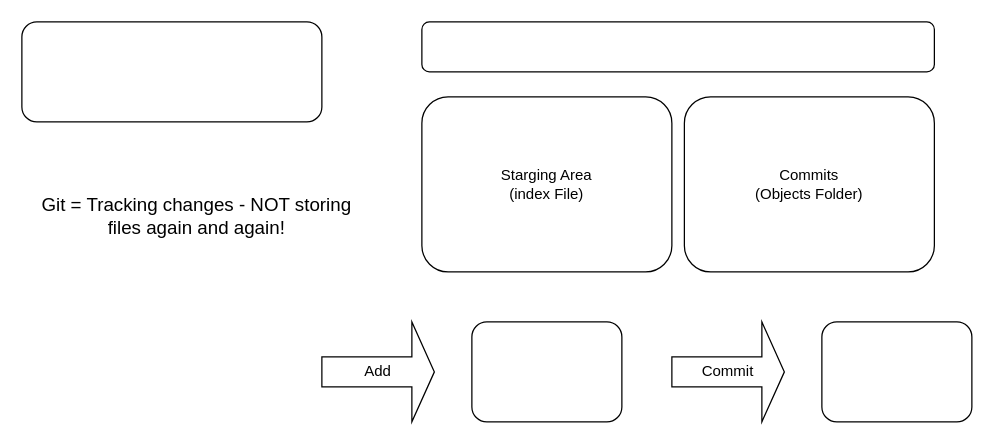
Some shapes in this 994 by 444 pixel diagram are drawn without their labels. Each missing label, with the centre of its shape:
".git (hidden) Repository" belongs at point (677, 46).
"Working Directory" belongs at point (171, 71).
